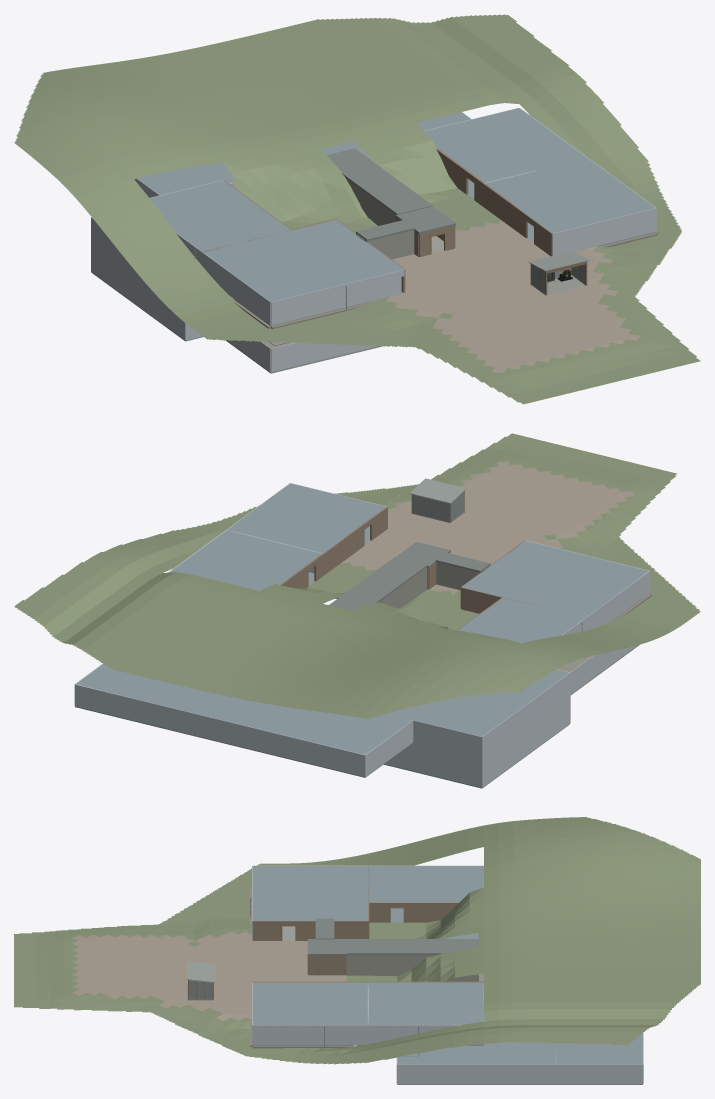
File: mine-distribution.glb
The picture shows the model from 3 angles, top to bottom: view 1: azimuth 30°, elevation 25°; view 2: azimuth 150°, elevation 25°; view 3: azimuth 270°, elevation 25°; orthographic projection. The views are drawn at different scales.
Visible parts, largest first — view 1: WLD-05 saved ground, Ceiling cap shack, Ceiling cap assay, Ceiling cap wash, Ceiling cap stores, Flat route shell Wall shack S, Mine haul stair weather roof region0, Wall lower W, Wall assay S, Ceiling cap cross, Wall vent S, Wall shack W (+8 smaller); view 2: WLD-05 saved ground, Ceiling cap shack, Ceiling cap cross, Ceiling cap assay, Ceiling cap wash, Wall cross N, Ceiling cap ore-west, Ceiling cap stores, Wall lower W, Wall lower N, Mine haul stair weather roof region0, Wall ore-west W (+14 smaller); view 3: WLD-05 saved ground, Ceiling cap shack, Ceiling cap assay, Ceiling cap wash, Ceiling cap stores, Wall ore-east E, Ceiling cap ore-east, Wall assay E, Mine haul stair weather roof region0, Ceiling cap lift, Wall lift E, Mine haul east retaining wall region0 (+10 smaller).
Part boxes in pixels (x1,y1,x2,y2): WLD-05 saved ground: (14, 14, 700, 404); Ceiling cap shack: (203, 220, 403, 301); Ceiling cap assay: (485, 158, 655, 233); Ceiling cap wash: (424, 108, 586, 182); Ceiling cap stores: (150, 180, 290, 251); Flat route shell Wall shack S: (271, 269, 404, 325); Mine haul stair weather roof region0: (327, 148, 432, 214); Wall lower W: (91, 241, 185, 340); Wall assay S: (552, 208, 656, 255); Ceiling cap cross: (137, 142, 362, 195); Wall vent S: (271, 342, 376, 371); Wall shack W: (202, 252, 270, 325); WLD-05 saved ground: (14, 433, 700, 718); Ceiling cap shack: (462, 540, 648, 617); Ceiling cap cross: (144, 683, 412, 754); Ceiling cap assay: (227, 483, 386, 553); Ceiling cap wash: (169, 530, 322, 590); Wall cross N: (144, 701, 365, 776); Ceiling cap ore-west: (388, 669, 569, 736); Ceiling cap stores: (458, 597, 585, 643); Wall lower W: (482, 694, 570, 787); Wall lower N: (385, 742, 482, 787); Mine haul stair weather roof region0: (329, 557, 427, 610); Wall ore-west W: (482, 673, 570, 758); WLD-05 saved ground: (14, 817, 700, 1064); Ceiling cap shack: (252, 866, 368, 920); Ceiling cap assay: (252, 982, 368, 1024); Ceiling cap wash: (368, 982, 483, 1024); Ceiling cap stores: (368, 866, 483, 902); Wall ore-east E: (397, 1064, 556, 1084); Ceiling cap ore-east: (397, 1042, 556, 1064); Wall assay E: (252, 1024, 368, 1044); Mine haul stair weather roof region0: (346, 939, 478, 955); Ceiling cap lift: (556, 1033, 642, 1064); Wall lift E: (556, 1064, 642, 1084); Mine haul east retaining wall region0: (346, 955, 466, 981).
Bounding box in the file's own units: 70 × 17.77 × 95.
Materials: 72 (40 with a texture image).
